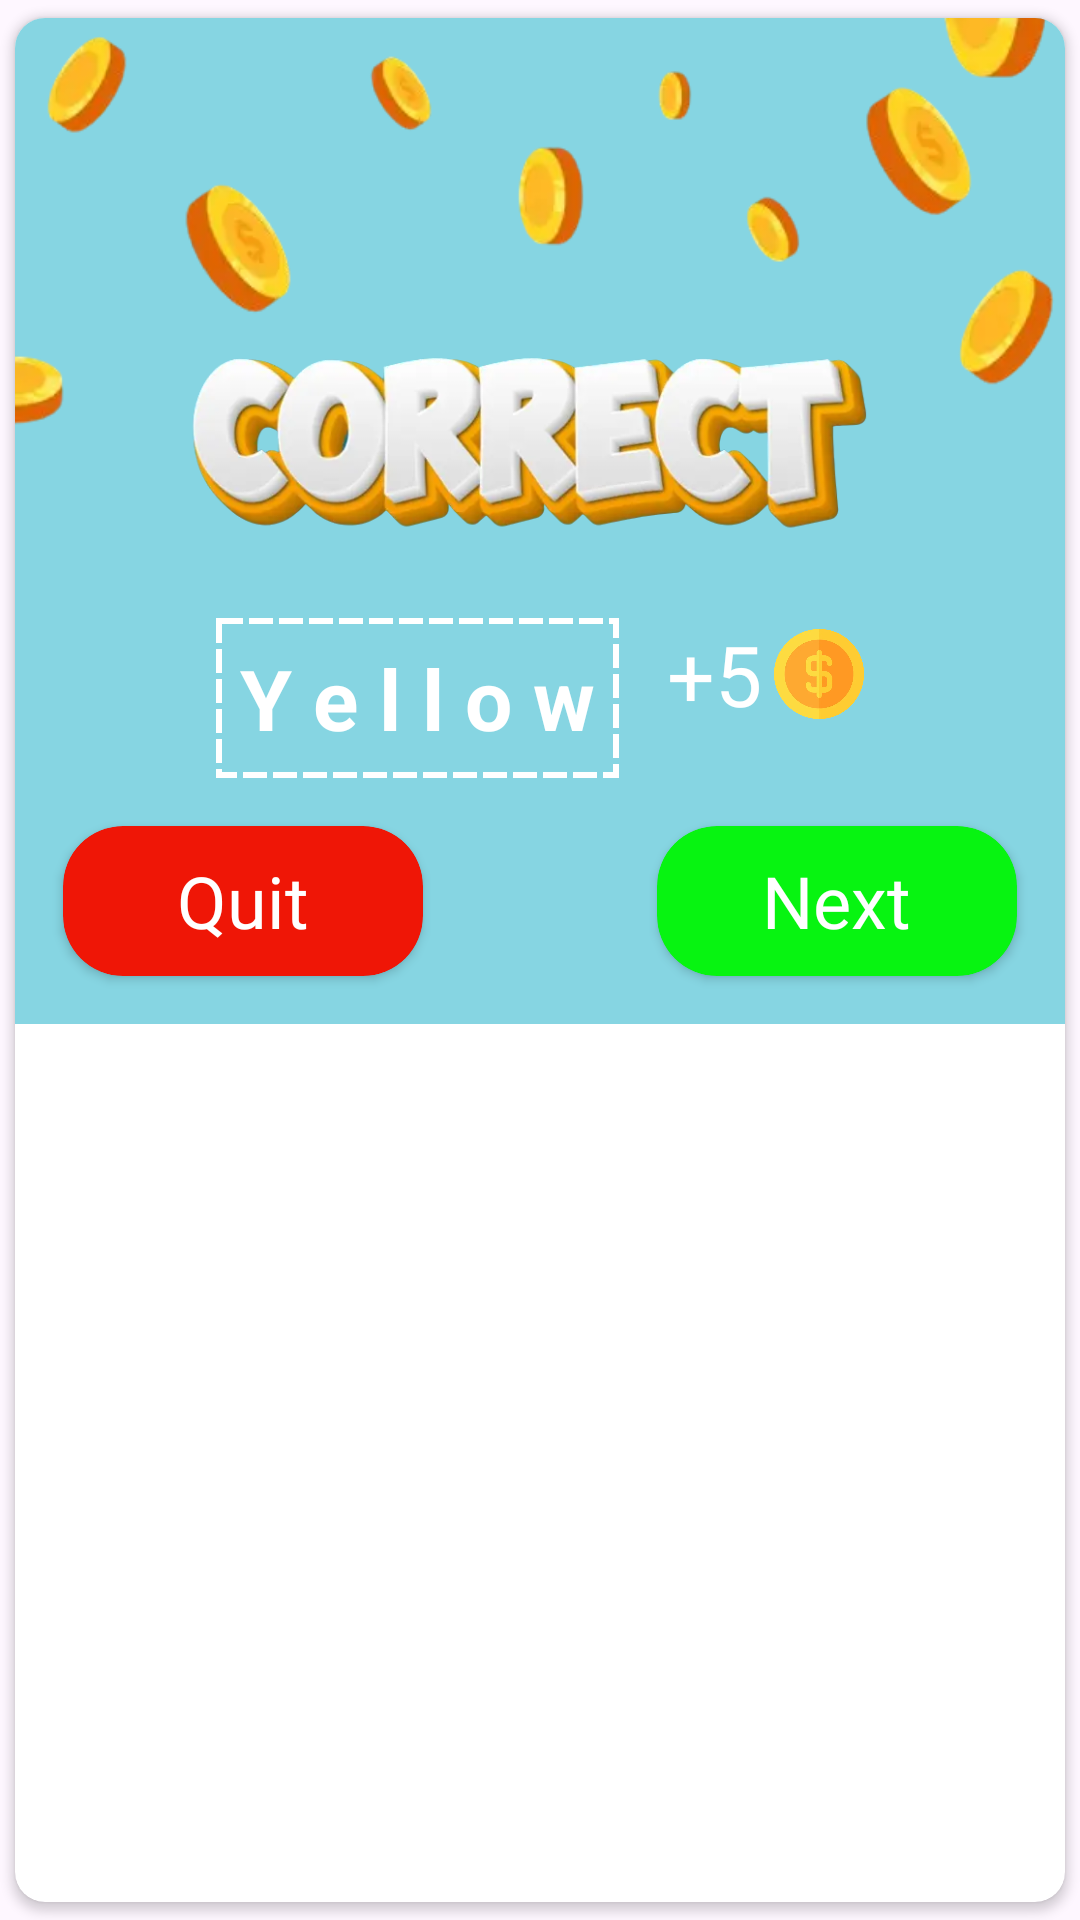

Icons on this 1080 x 1920 Android screen, each with the point to tap as [x,y]:
coin: [819,674]
